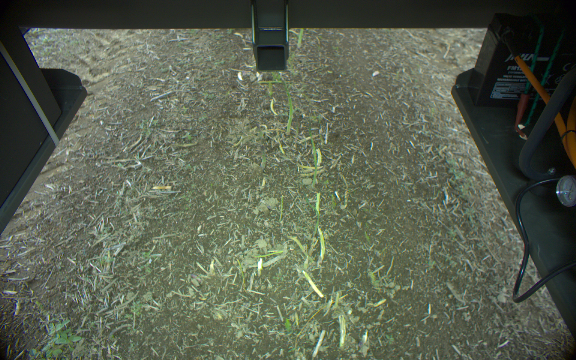aspa: (280, 78, 296, 134), (304, 129, 319, 185), (252, 138, 269, 175), (315, 225, 328, 265)
